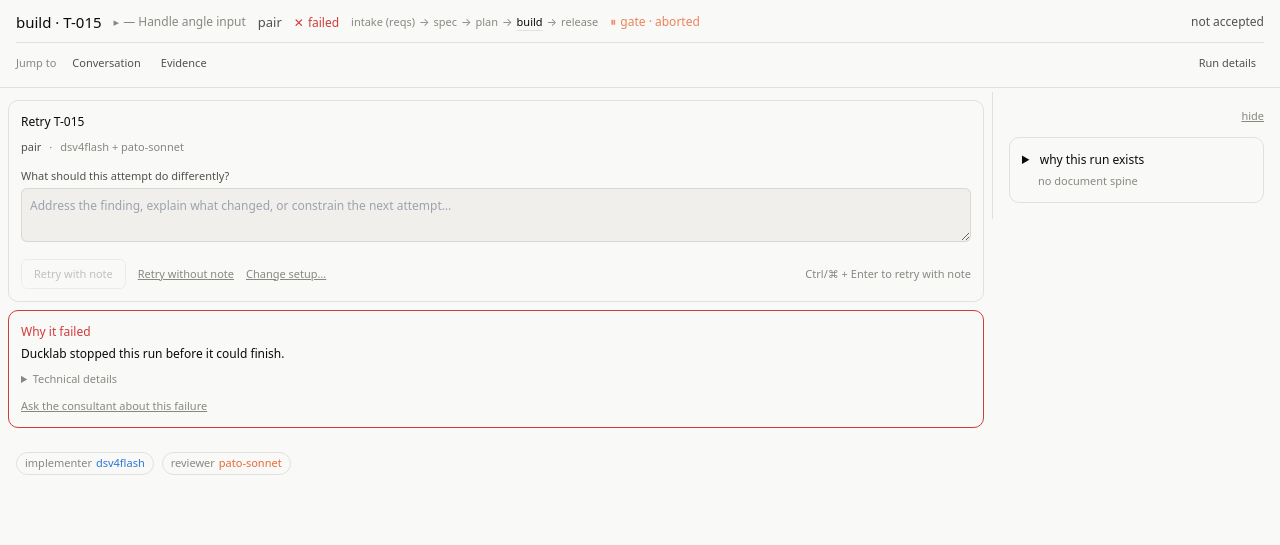
it: relaunching from the run view › says so when the engine refuses
The width and height of the screenshot is (1280, 545).
Click the button with test id "rerun-without-note" at coordinates (186, 274), box [138,266,234,282]
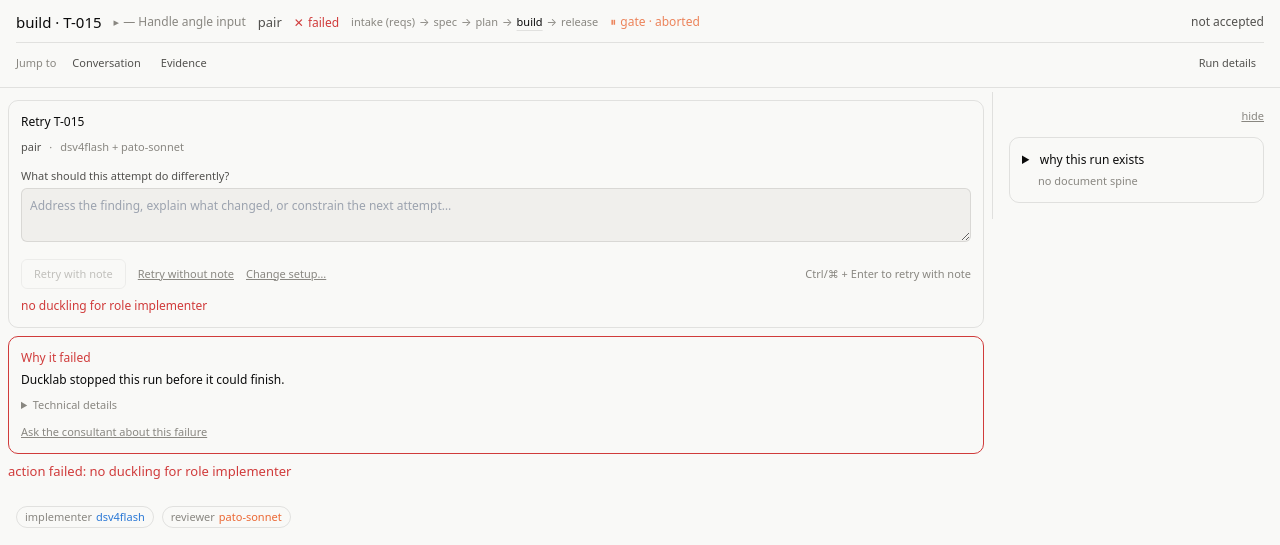
Result: the text with test id "relaunch-error" shows "no duckling" at [21,297,207,314]
